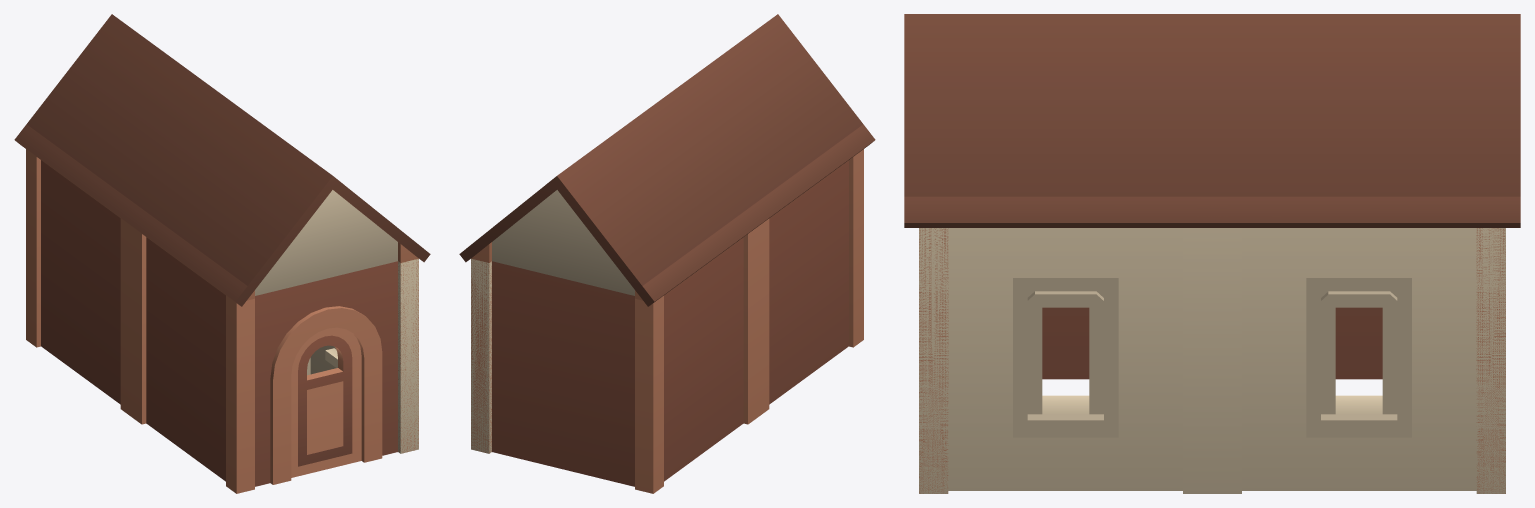
The model's file is home-long-ridge.glb.
The picture shows the model from 3 angles, left to right: view 1: azimuth 30°, elevation 25°; view 2: azimuth 150°, elevation 25°; view 3: azimuth 270°, elevation 25°; orthographic projection. The views are drawn at different scales.
Visible parts, largest first — view 1: roof-gable (×2), wall-wood (×3), wall-wood-door, door, wall-wood-window-small; view 2: wall-wood (×3), roof-gable (×2), wall-wood-window-small, wall-wood-door; view 3: wall-wood-window-small (×2), roof-gable (×2), wall-wood (×3), wall-wood-door.
Part boxes in pixels (box(x1,y1,x2,y2)): roof-gable (×2): box(14, 14, 430, 306); wall-wood (×3): box(26, 149, 254, 493); wall-wood-door: box(226, 259, 418, 493); door: box(291, 327, 361, 477); wall-wood-window-small: box(307, 258, 418, 453); wall-wood (×3): box(471, 149, 863, 493); roof-gable (×2): box(459, 14, 875, 306); wall-wood-window-small: box(471, 258, 491, 453); wall-wood-door: box(849, 149, 863, 347); wall-wood-window-small (×2): box(919, 228, 1505, 493); roof-gable (×2): box(904, 14, 1520, 227); wall-wood (×3): box(1042, 228, 1505, 493); wall-wood-door: box(919, 228, 948, 493).
Bounding box in the file's own units: 1.09 × 1.57 × 2.1.
1 material, 1 textured.
